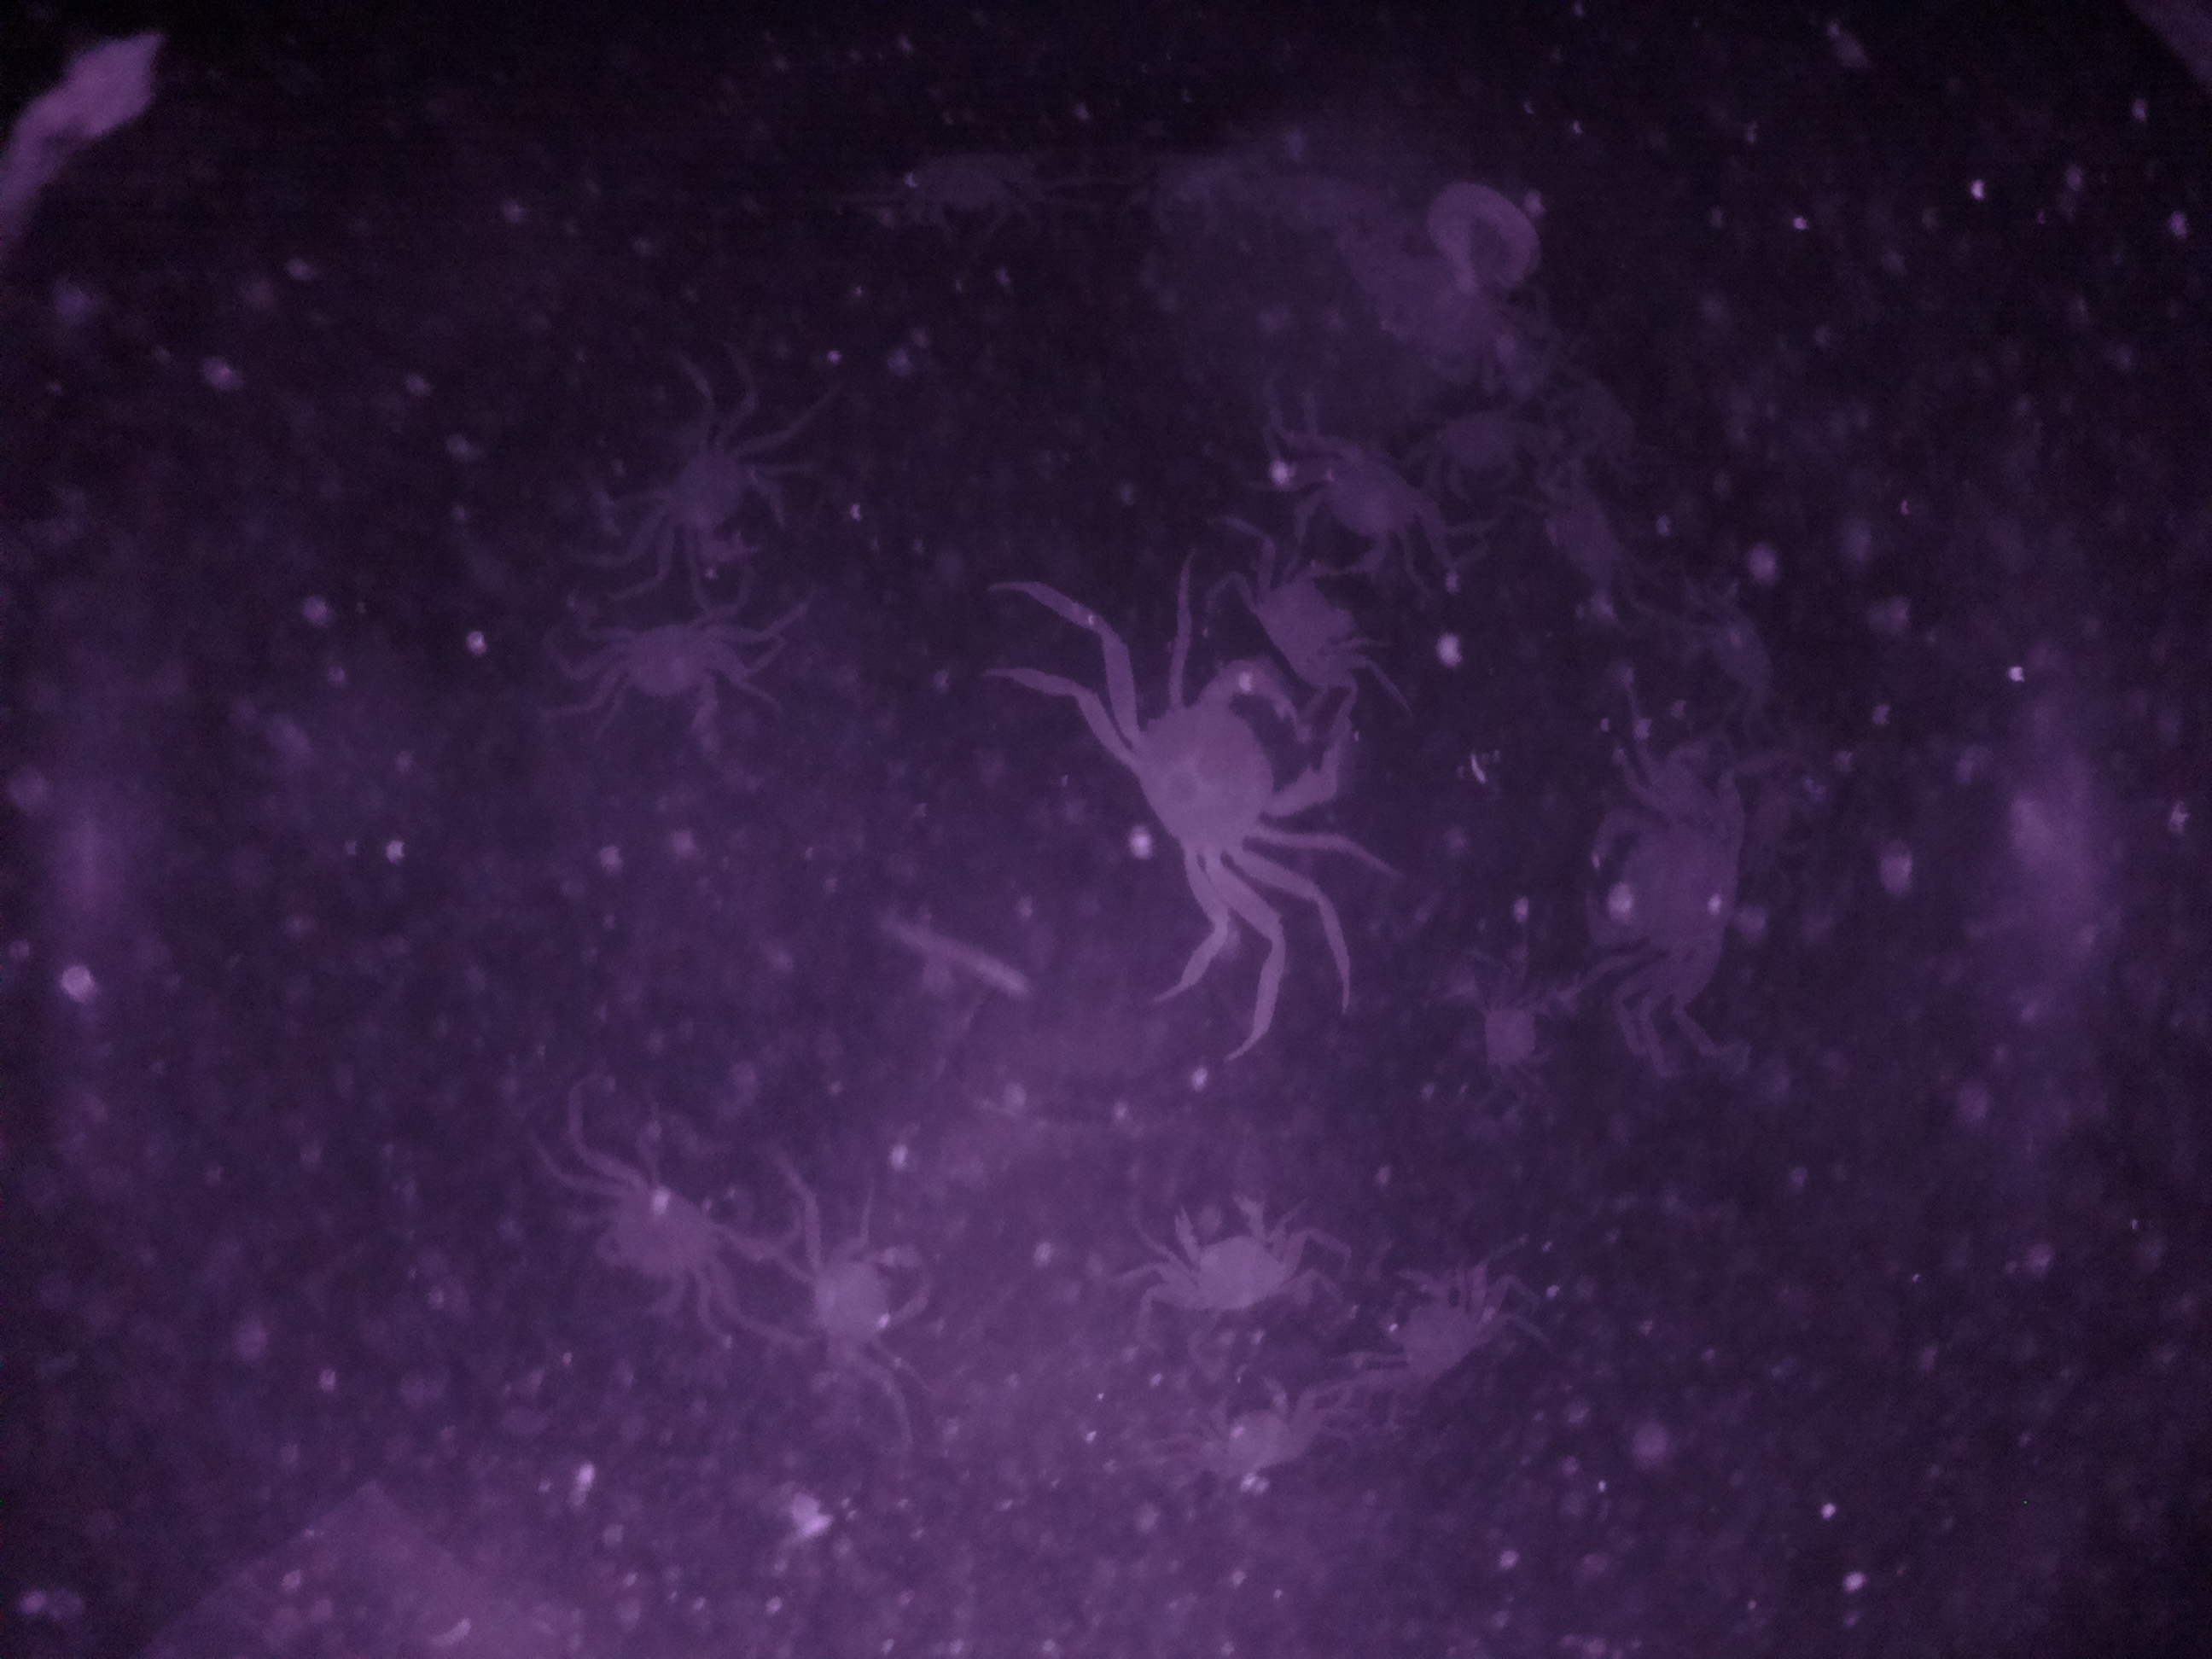Crab: (1087, 647, 1362, 920), (615, 415, 808, 580), (782, 1199, 948, 1387), (1266, 429, 1456, 592), (1125, 1187, 1341, 1319), (564, 605, 777, 734)
